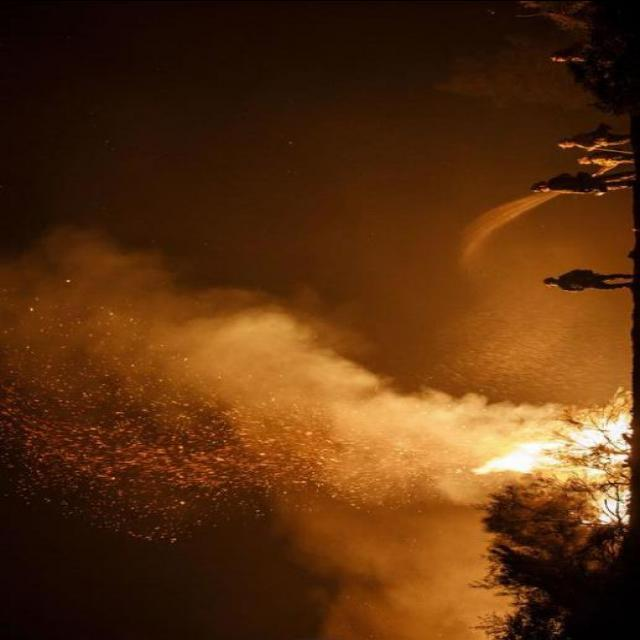Fire: (459, 408, 629, 524)
